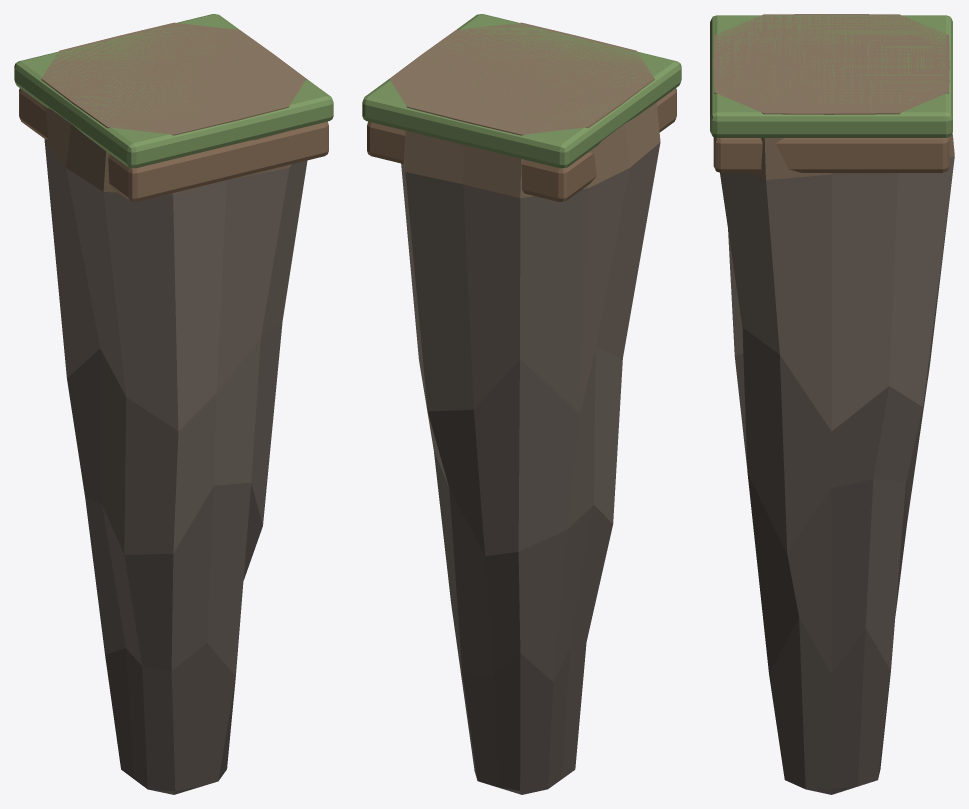
Rendered from rock_base.glb.
3 renders of one model, left to right at view 1: azimuth 30°, elevation 25°; view 2: azimuth 150°, elevation 25°; view 3: azimuth 270°, elevation 25°, orthographic. The views are drawn at different scales.
Visible parts, largest first — view 1: RockBase, RockGrass; view 2: RockBase, RockGrass; view 3: RockBase, RockGrass.
Boxes of the visible parts, x1,y1,x2,y2 form: RockBase: (41, 22, 307, 794); RockGrass: (14, 14, 333, 201); RockBase: (389, 22, 660, 794); RockGrass: (362, 14, 681, 201); RockBase: (713, 14, 954, 794); RockGrass: (710, 15, 952, 172).
Size of the model in its own units: 1.06 by 3.42 by 1.04.
